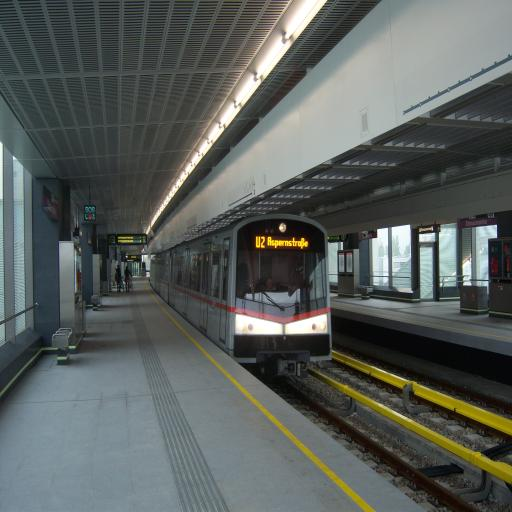V-Wagen: (150, 216, 336, 365)
